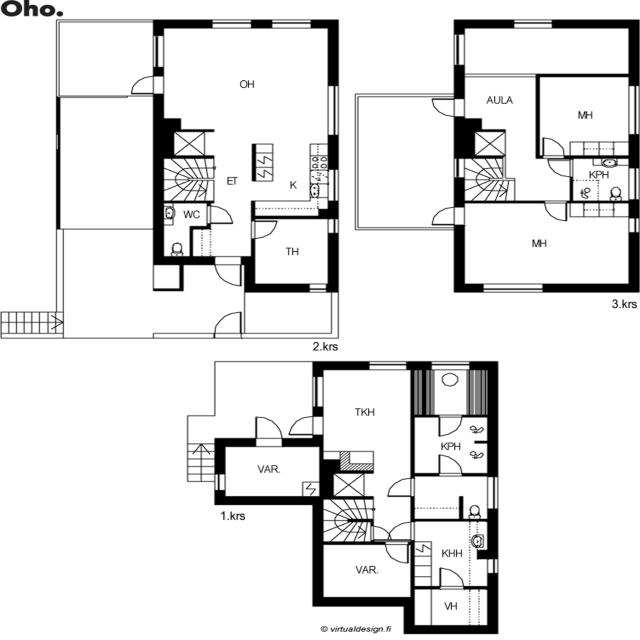door: (415, 415, 490, 473), (248, 412, 284, 446), (212, 255, 245, 288), (285, 413, 325, 438), (124, 72, 164, 97), (425, 94, 465, 118), (380, 538, 414, 566), (426, 204, 464, 228), (433, 413, 466, 440), (247, 218, 281, 242), (212, 309, 242, 336), (434, 452, 465, 478), (543, 155, 576, 179), (541, 198, 570, 225), (435, 565, 466, 590), (382, 520, 417, 542), (384, 476, 419, 498), (536, 135, 566, 160), (203, 203, 235, 226), (365, 523, 402, 542)
window: (50, 226, 66, 308), (471, 280, 552, 296), (322, 80, 343, 141), (623, 80, 640, 140), (505, 15, 560, 31), (204, 15, 258, 31), (361, 357, 413, 373), (265, 15, 316, 31), (307, 374, 327, 412), (449, 31, 468, 69), (149, 32, 167, 72), (324, 166, 342, 206), (426, 357, 474, 371), (485, 474, 501, 513), (626, 166, 640, 202), (211, 470, 228, 494), (484, 554, 501, 578), (449, 155, 463, 180), (304, 282, 329, 295), (626, 215, 640, 238), (326, 216, 340, 238), (51, 132, 64, 154)
zone: (158, 24, 330, 132), (458, 202, 632, 290), (320, 367, 416, 468), (456, 24, 634, 77), (536, 74, 634, 156), (252, 140, 333, 215), (217, 443, 323, 499), (251, 216, 333, 288), (317, 543, 414, 602), (412, 519, 490, 587), (415, 415, 490, 477), (410, 474, 496, 522), (459, 74, 536, 125), (418, 365, 487, 417), (410, 587, 492, 630), (571, 156, 633, 202), (158, 202, 205, 258), (160, 203, 208, 229)
